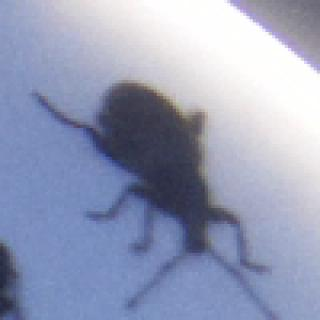bvw: (31, 82, 278, 320)
